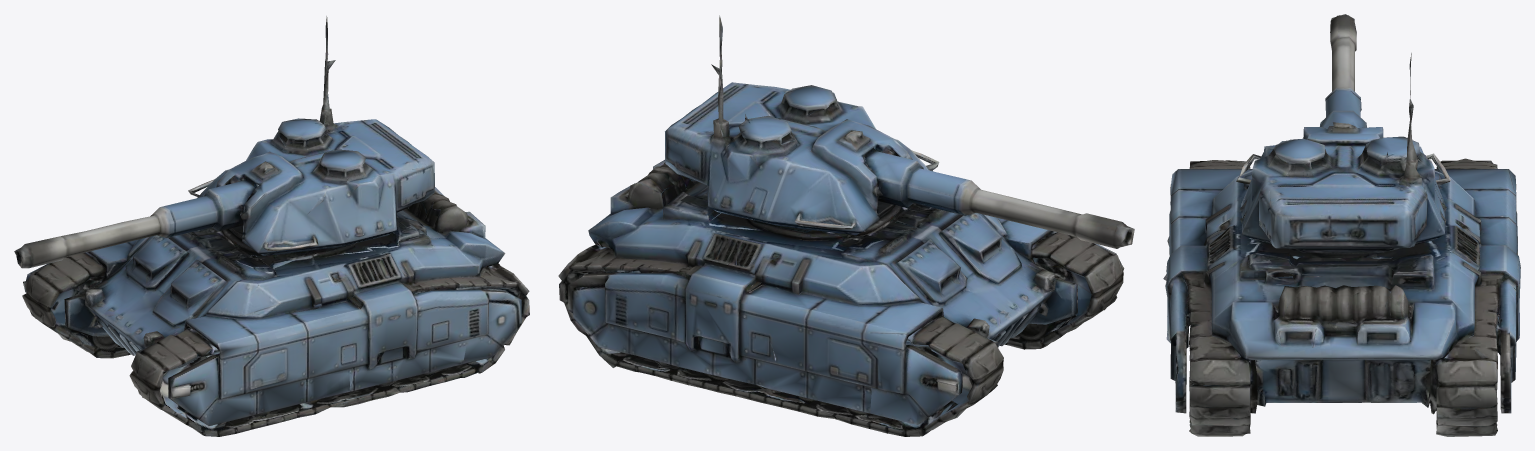
File: devastator.glb
The picture shows the model from 3 angles, left to right: view 1: azimuth 30°, elevation 25°; view 2: azimuth 150°, elevation 25°; view 3: azimuth 270°, elevation 25°; orthographic projection. The views are drawn at different scales.
Visible parts, largest first — view 1: Mesh1.0; view 2: Mesh1.0; view 3: Mesh1.0.
Part boxes in pixels (x1,y1,x2,y2): Mesh1.0: [14, 16, 529, 436]; Mesh1.0: [558, 15, 1134, 436]; Mesh1.0: [1163, 14, 1520, 436].
Size of the model in its own units: 1.91 by 1.25 by 1.15.
1 material, 1 textured.
